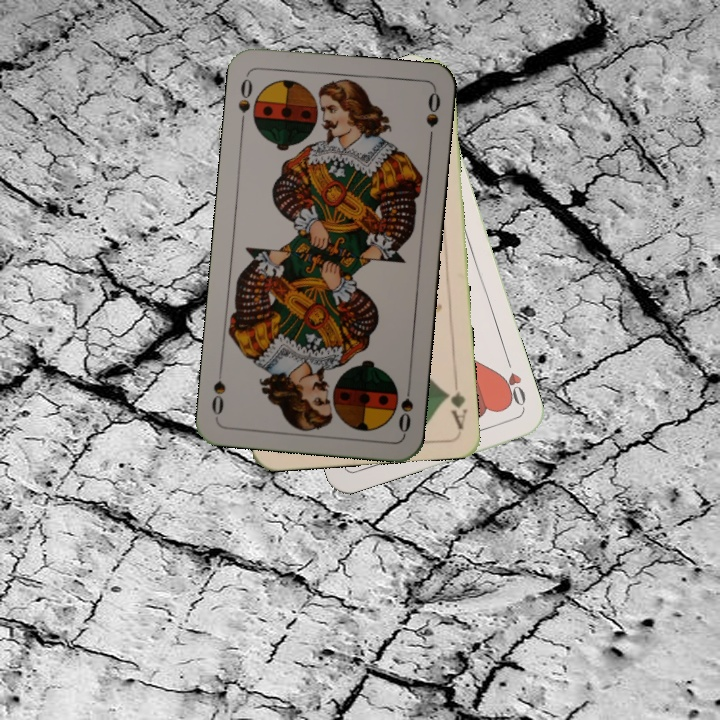GA: (441, 373, 470, 432)
HO: (496, 353, 529, 411)
SO: (394, 377, 416, 436), (234, 71, 255, 130)
